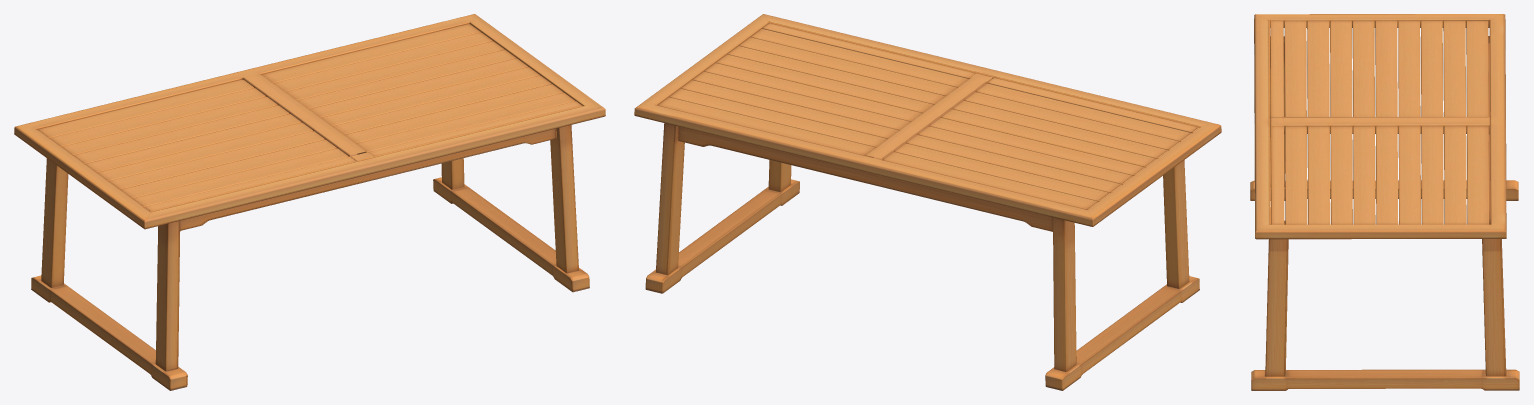
The model's file is OparetionRoom_AI_Prop.020.fbx.
The picture shows the model from 3 angles, left to right: view 1: azimuth 30°, elevation 25°; view 2: azimuth 150°, elevation 25°; view 3: azimuth 270°, elevation 25°; orthographic projection. The views are drawn at different scales.
Visible parts, largest first — view 1: OparetionRoom_AI_Prop.020; view 2: OparetionRoom_AI_Prop.020; view 3: OparetionRoom_AI_Prop.020.
Boxes of the visible parts, x1,y1,x2,y2 form: OparetionRoom_AI_Prop.020: (14,14,605,390); OparetionRoom_AI_Prop.020: (634,14,1221,390); OparetionRoom_AI_Prop.020: (1250,14,1519,390).
Size of the model in its own units: 320 by 116 by 167.
